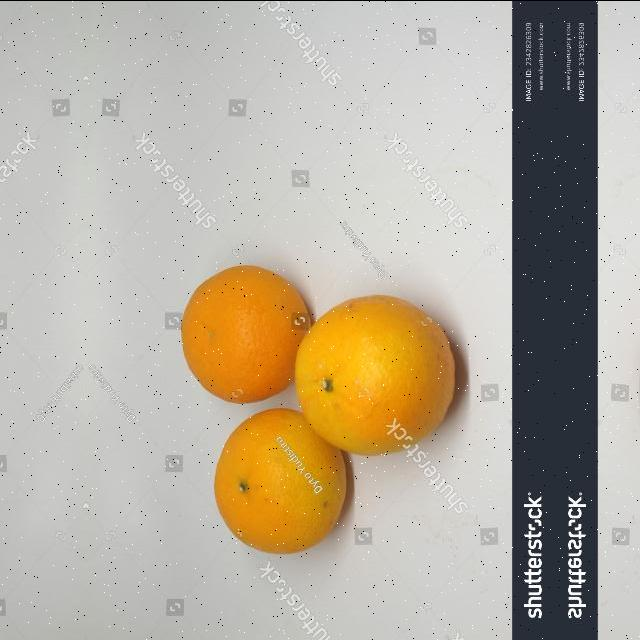Orange: (293, 294, 456, 456), (212, 408, 348, 554), (179, 264, 312, 404)
